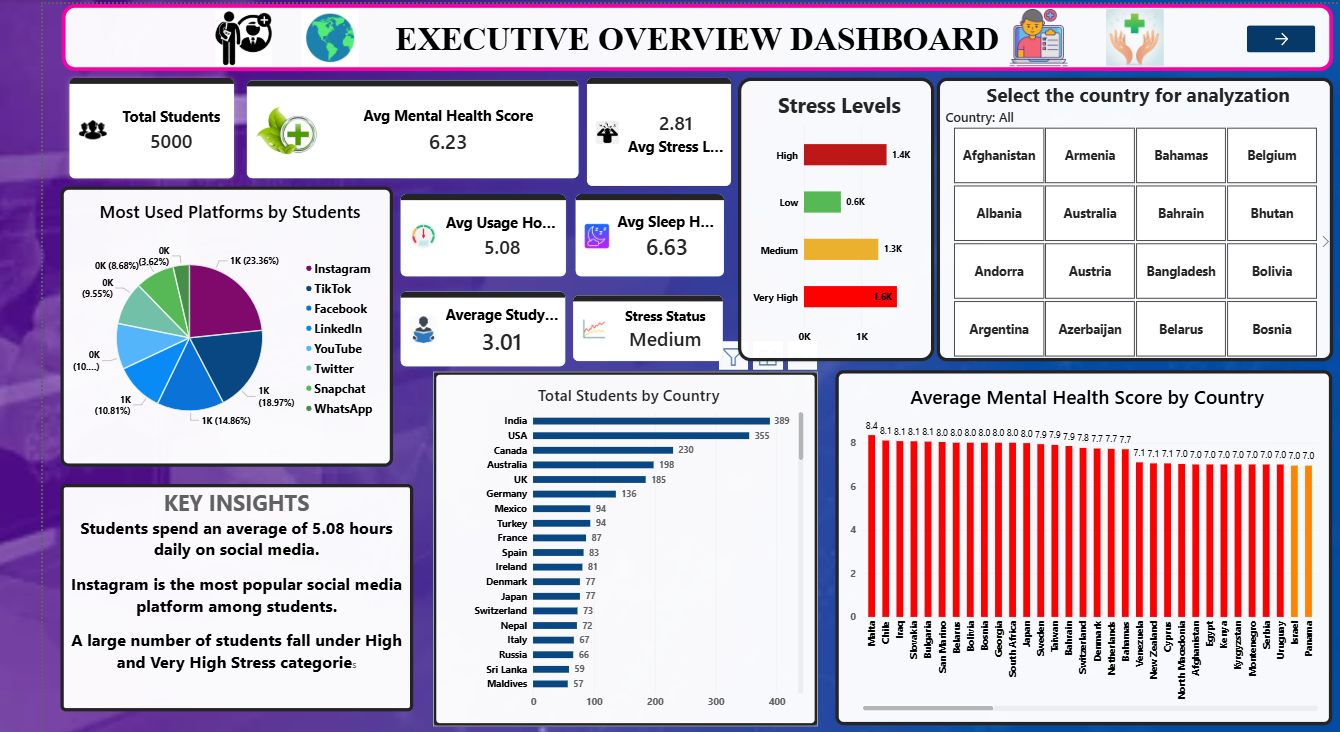

The page's visual inventory and layout, read from the dashboard file:
{"tool":"powerbi","page":{"name":"Executive Analysis","canvas":[1920,1080],"ordinal":0},"visuals":[{"type":"textbox","box":[26.9,0,1865.4,98.1],"z":0},{"type":"cardVisual","fields":{"Data":["Student Social Media And Mental Health Impact.Total Students"]},"box":[27.5,97.2,264.1,170.6],"z":1000},{"type":"cardVisual","fields":{"Data":["Student Social Media And Mental Health Impact.Avg Mental Health Score"]},"box":[288,100.9,509.9,166.9],"z":2000},{"type":"cardVisual","fields":{"Data":["Student Social Media And Mental Health Impact.Avg Sleep Hours"]},"box":[770.4,267.8,240.3,143.1],"z":3000},{"type":"cardVisual","fields":{"Data":["Student Social Media And Mental Health Impact.Avg Study Hours"]},"box":[513.6,410.9,264.1,132.1],"z":4000},{"type":"cardVisual","fields":{"Data":["Student Social Media And Mental Health Impact.Avg Usage Hours"]},"box":[513.6,267.8,266,143.1],"z":5000},{"type":"pieChart","title":" Most Used Platforms by Students","fields":{"Category":["Student Social Media And Mental Health Impact.Most_Used_Platform"],"Y":["Student Social Media And Mental Health Impact.Total Students"]},"box":[25.7,267.8,487.9,410.9],"z":6000},{"type":"clusteredBarChart","fields":{"Category":["Student Social Media And Mental Health Impact.Country"],"Y":["Student Social Media And Mental Health Impact.Total Students"]},"box":[572.3,539.3,564.9,520.9],"z":7000},{"type":"clusteredColumnChart","title":"Average Mental Health Score by Country","fields":{"Category":["Student Social Media And Mental Health Impact.Country"],"Y":["Student Social Media And Mental Health Impact.Avg Mental Health Score"]},"box":[1163.5,536.5,728.8,521.2],"z":8000},{"type":"clusteredBarChart","title":"Stress Levels","fields":{"Category":["Student Social Media And Mental Health Impact.Stress_Level"],"Y":["Student Social Media And Mental Health Impact.Total Students"]},"box":[1019.8,108.2,288,416.4],"z":9000},{"type":"slicer","title":"Select the country for analyzation","fields":{"Values":["Student Social Media And Mental Health Impact.Country"]},"box":[1311.5,108.2,581.5,416.4],"z":10000},{"type":"image","box":[271.2,7.7,300,84.6],"z":11000},{"type":"image","box":[1452.7,7.3,299,84.4],"z":12000},{"type":"cardVisual","fields":{"Data":["Student Social Media And Mental Health Impact.Avg Stress Level"]},"box":[797.9,108.2,212.8,159.6],"z":13000},{"type":"cardVisual","fields":{"Data":["Student Social Media And Mental Health Impact.Stress Status"]},"box":[777.7,427.4,220.1,97.2],"z":14000},{"type":"image","box":[221.9,9.2,144.9,82.5],"z":15000},{"type":"image","box":[1311.5,7.3,299,84.4],"z":16000},{"type":"actionButton","title":"NEXT","box":[1766.4,31.2,100.9,40.4],"z":17000},{"type":"textbox","box":[25.7,704.4,517.3,333.8],"z":17001}]}

Visuals, with their boxes in screenshot pixels (x1, y1, x2, y2), scaled from the page's 1920x1080 canvas onto the 1340x732 screenshot:
textbox: bbox=[19, 0, 1321, 66]
cardVisual - Student Social Media And Mental Health Impact.Total Students: bbox=[19, 66, 204, 182]
cardVisual - Student Social Media And Mental Health Impact.Avg Mental Health Score: bbox=[201, 68, 557, 182]
cardVisual - Student Social Media And Mental Health Impact.Avg Sleep Hours: bbox=[538, 182, 705, 278]
cardVisual - Student Social Media And Mental Health Impact.Avg Study Hours: bbox=[358, 278, 543, 368]
cardVisual - Student Social Media And Mental Health Impact.Avg Usage Hours: bbox=[358, 182, 544, 278]
" Most Used Platforms by Students" pieChart: bbox=[18, 182, 358, 460]
clusteredBarChart - Student Social Media And Mental Health Impact.Country x Student Social Media And Mental Health Impact.Total Students: bbox=[399, 366, 794, 719]
"Average Mental Health Score by Country" clusteredColumnChart: bbox=[812, 364, 1321, 717]
"Stress Levels" clusteredBarChart: bbox=[712, 73, 913, 356]
"Select the country for analyzation" slicer: bbox=[915, 73, 1321, 356]
image: bbox=[189, 5, 399, 63]
image: bbox=[1014, 5, 1223, 62]
cardVisual - Student Social Media And Mental Health Impact.Avg Stress Level: bbox=[557, 73, 705, 182]
cardVisual - Student Social Media And Mental Health Impact.Stress Status: bbox=[543, 290, 696, 356]
image: bbox=[155, 6, 256, 62]
image: bbox=[915, 5, 1124, 62]
"NEXT" actionButton: bbox=[1233, 21, 1303, 49]
textbox: bbox=[18, 477, 379, 704]
